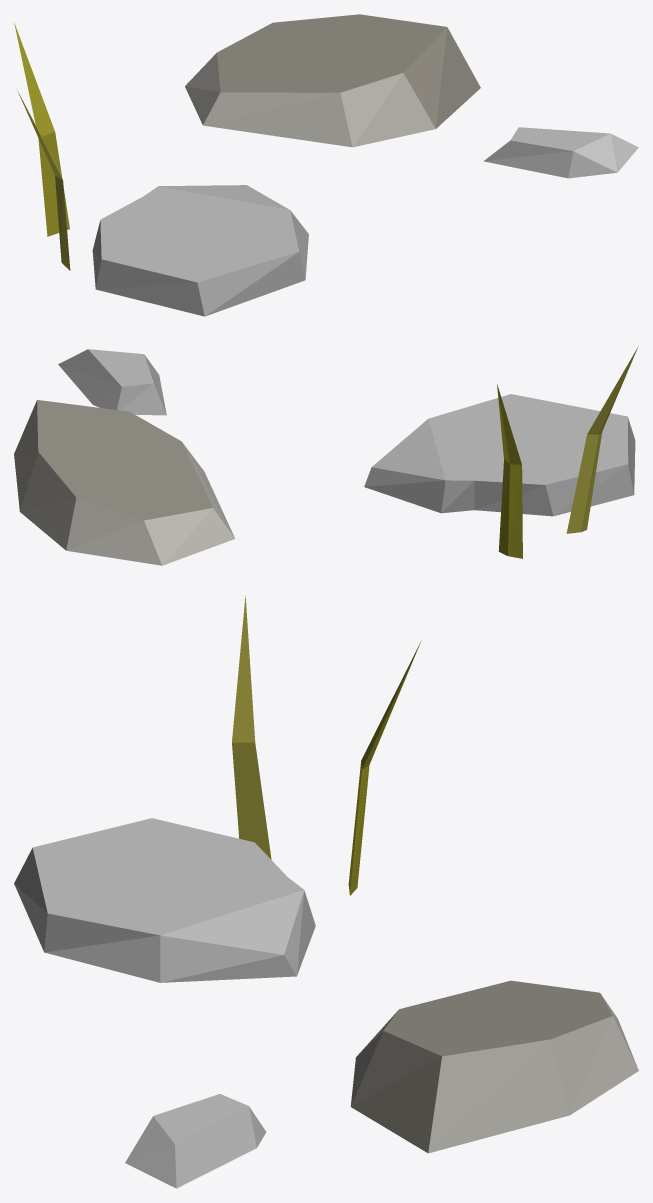
The model's file is rock1.FBX.
3 renders of one model, top to bottom at view 1: azimuth 30°, elevation 25°; view 2: azimuth 150°, elevation 25°; view 3: azimuth 270°, elevation 25°, orthographic. The views are drawn at different scales.
Parts seen in each view (by area): view 1: Box062; view 2: Box062; view 3: Box062.
Part boxes in pixels (x1=…): Box062: x1=14, y1=14, x2=638, y2=316; Box062: x1=14, y1=346, x2=638, y2=565; Box062: x1=14, y1=595, x2=638, y2=1188.
Bounding box in the file's own units: 9.55 × 3.01 × 6.94.
1 material, 1 textured.
